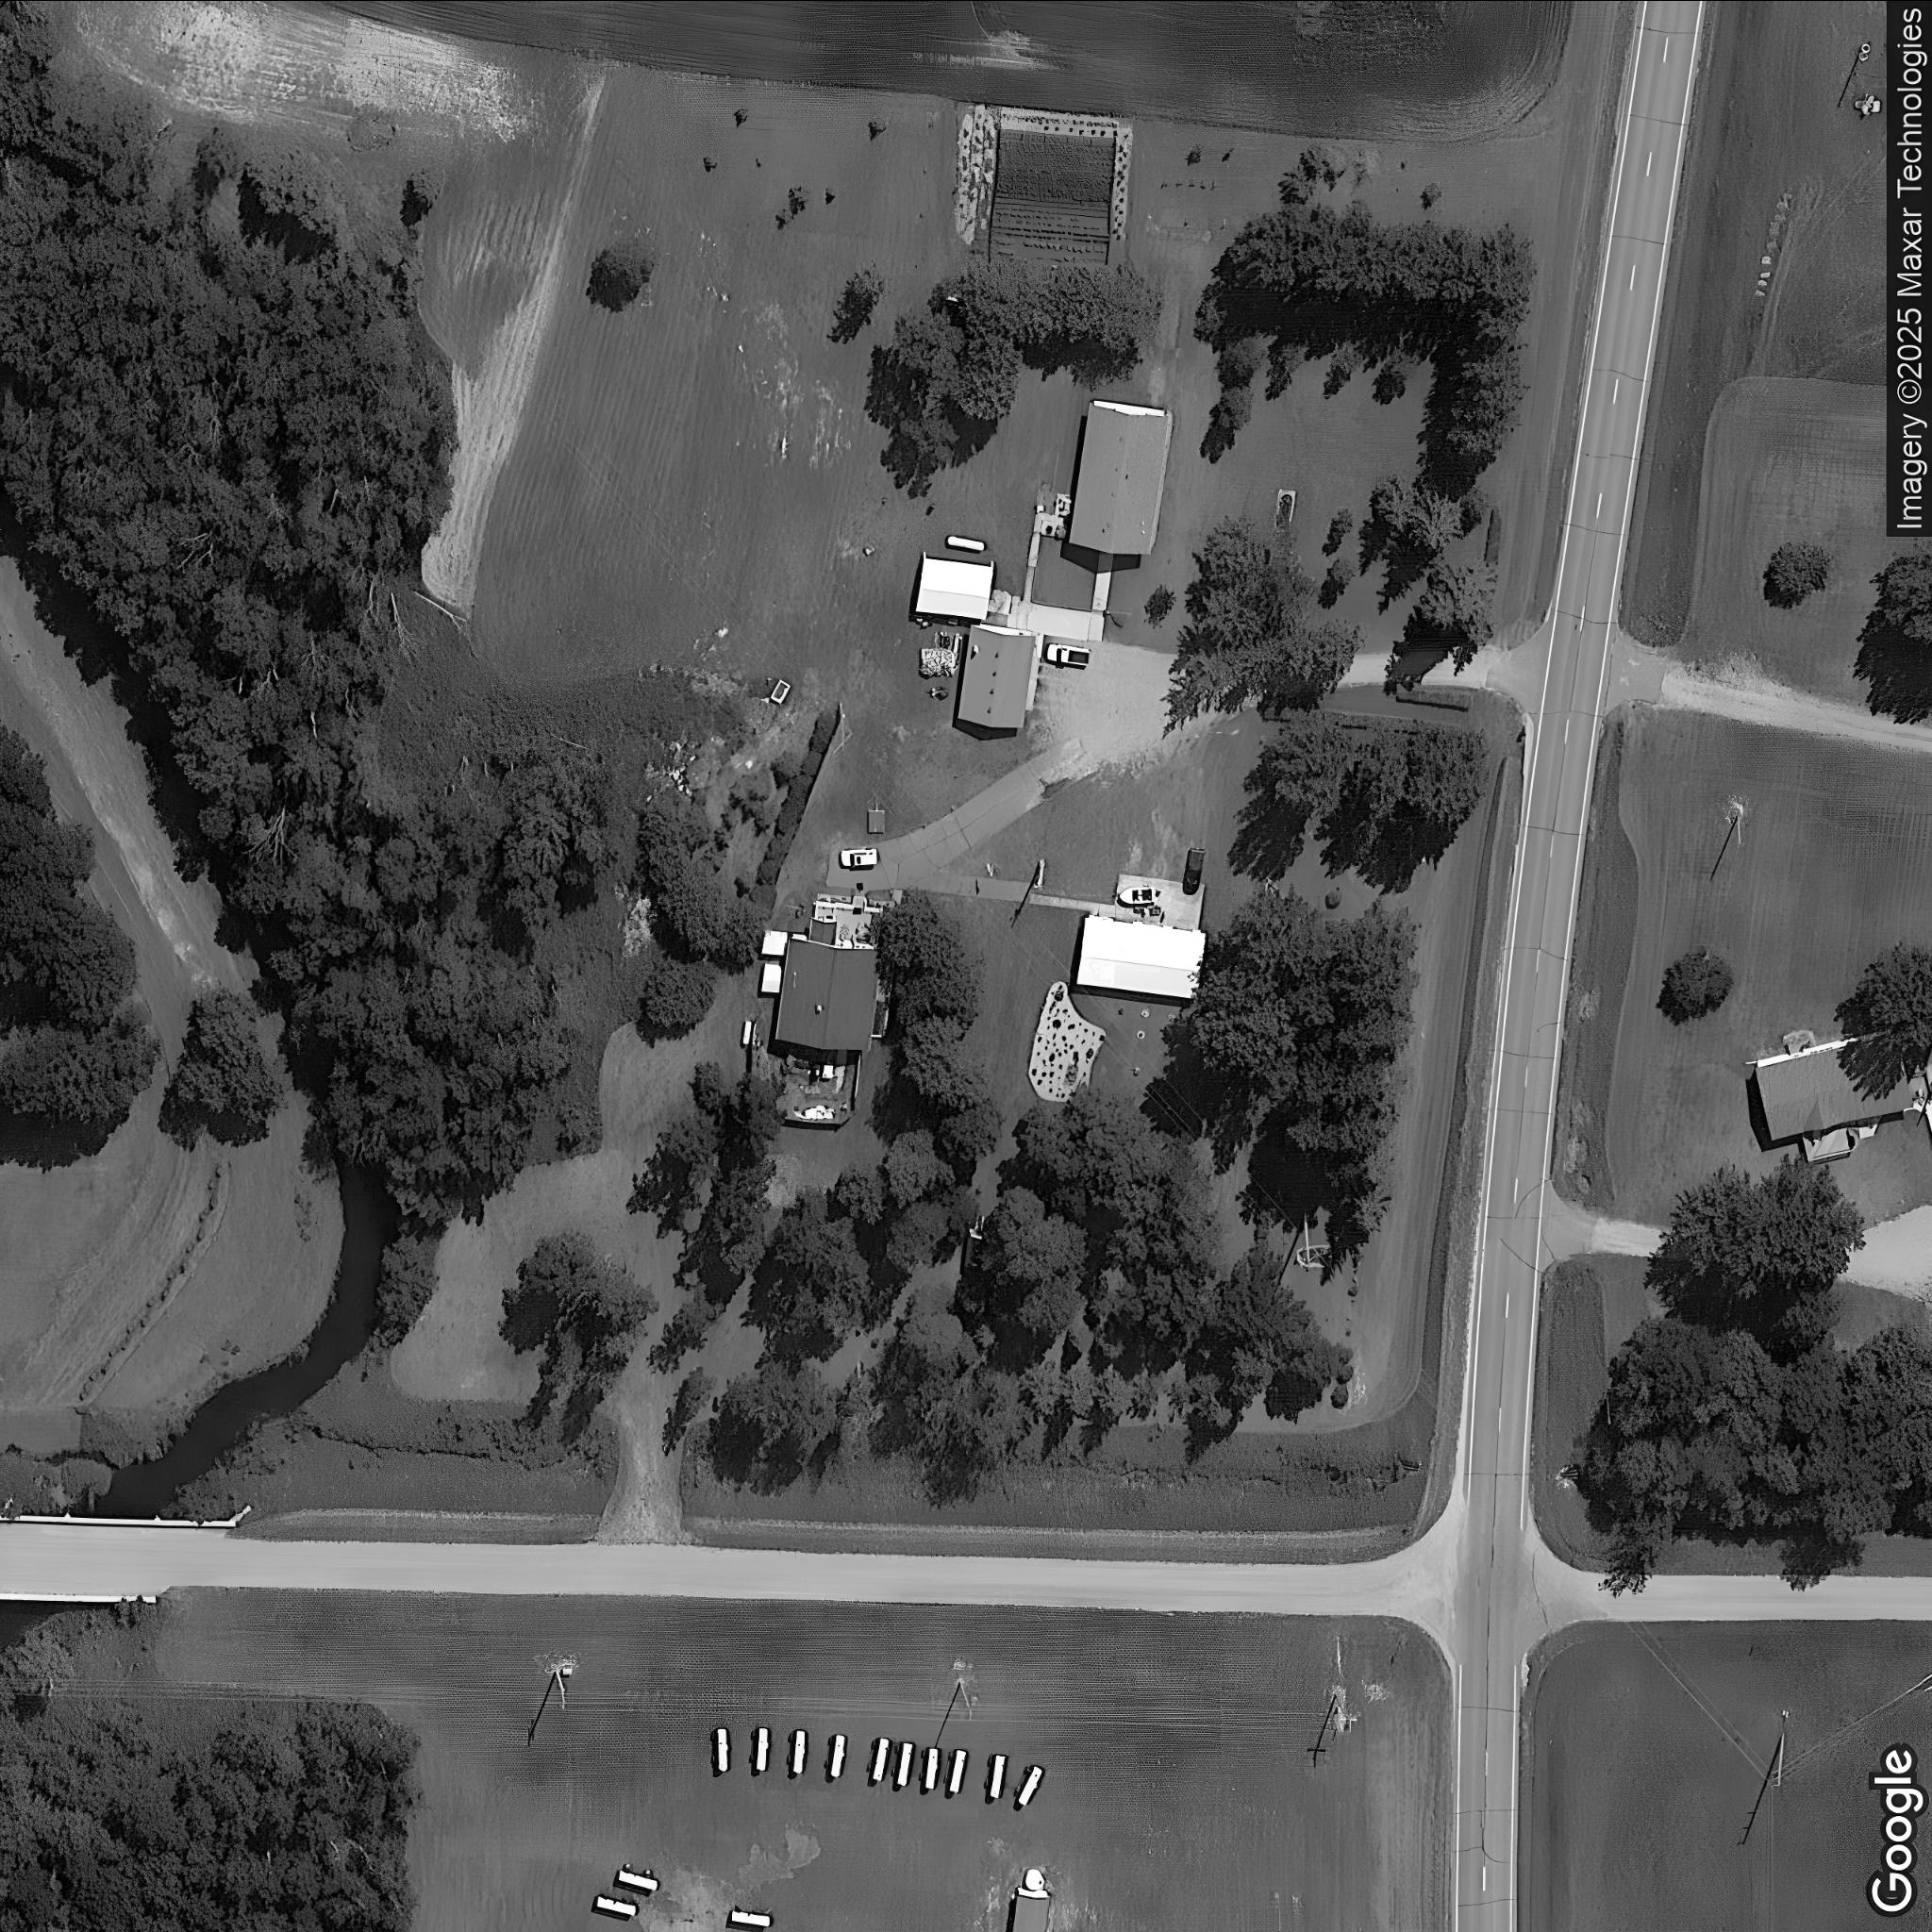Garage: (1076, 916, 1205, 1000), (916, 552, 994, 619)
House: (1755, 1026, 1911, 1139), (1069, 400, 1171, 554), (775, 932, 878, 1049), (959, 623, 1035, 727)
Propane: (1010, 1757, 1053, 1813), (610, 1858, 669, 1898), (589, 1886, 648, 1923), (865, 1730, 897, 1787), (943, 1743, 975, 1799), (982, 1746, 1014, 1803), (823, 1725, 853, 1783), (890, 1734, 920, 1792), (725, 1898, 778, 1930), (918, 1741, 947, 1796), (711, 1720, 738, 1778), (750, 1721, 775, 1776), (786, 1723, 810, 1778), (941, 529, 991, 554), (734, 1016, 757, 1047)
